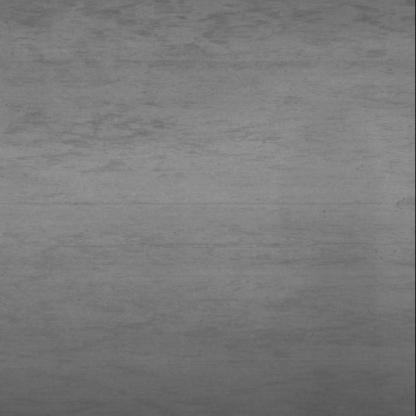silk_spot: (0, 5, 405, 187), (5, 200, 400, 344)
